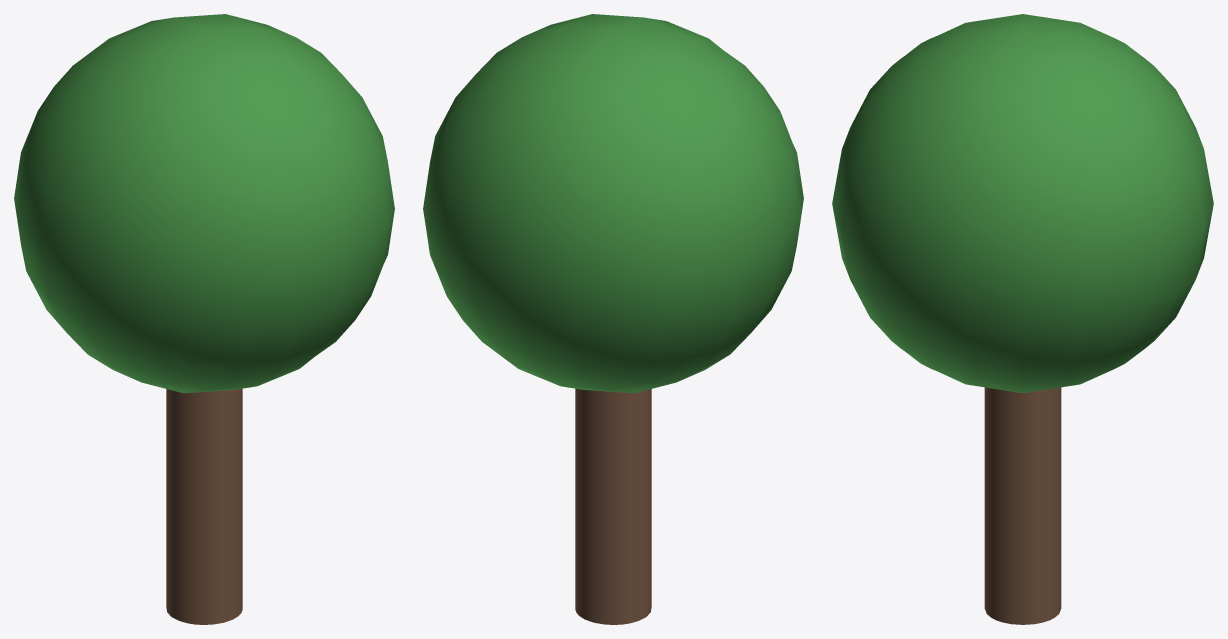
File: tree_round.obj
3 renders of one model, left to right at view 1: azimuth 30°, elevation 25°; view 2: azimuth 150°, elevation 25°; view 3: azimuth 270°, elevation 25°, orthographic.
Parts seen in each view (by area): view 1: Leaves, Trunk; view 2: Leaves, Trunk; view 3: Leaves, Trunk.
Part boxes in pixels (x1,y1,x2,y2): Leaves: (14,14,394,393); Trunk: (166,388,242,624); Leaves: (423,14,803,393); Trunk: (575,388,651,624); Leaves: (832,14,1213,392); Trunk: (984,387,1061,624).
Bounding box in the file's own units: 7 × 11.7 × 7.
